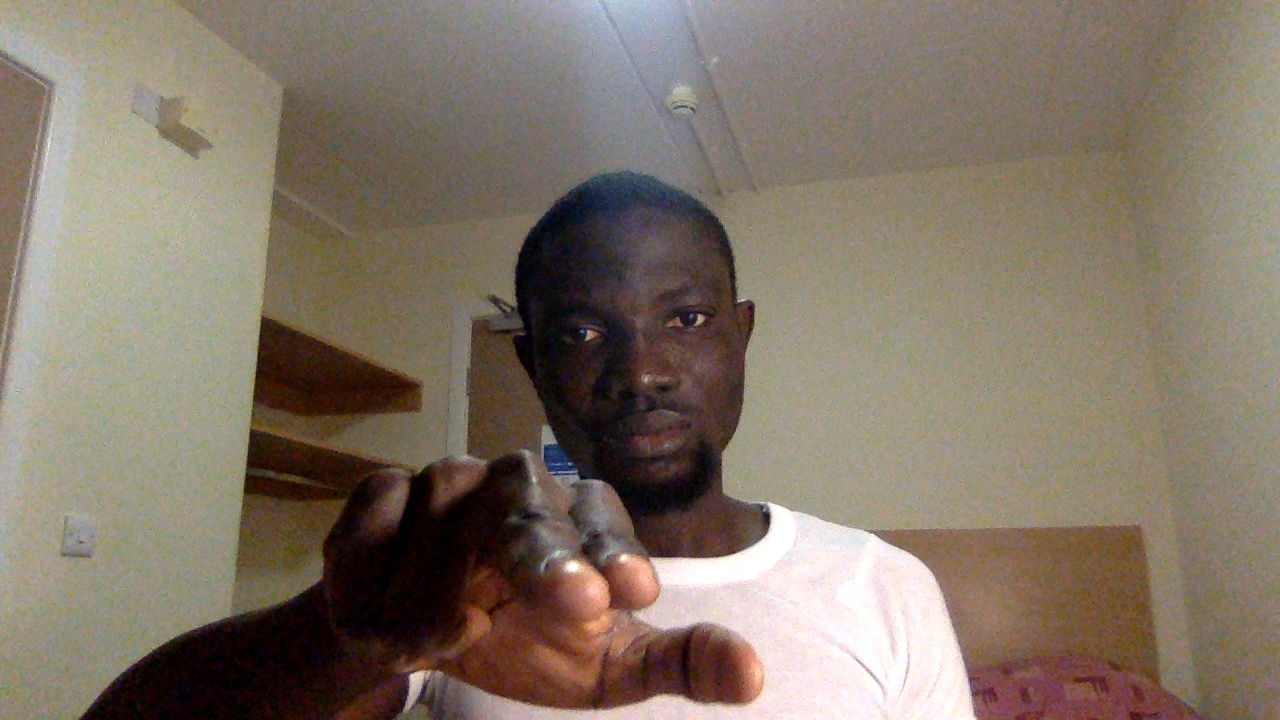No: (312, 440, 795, 720)
